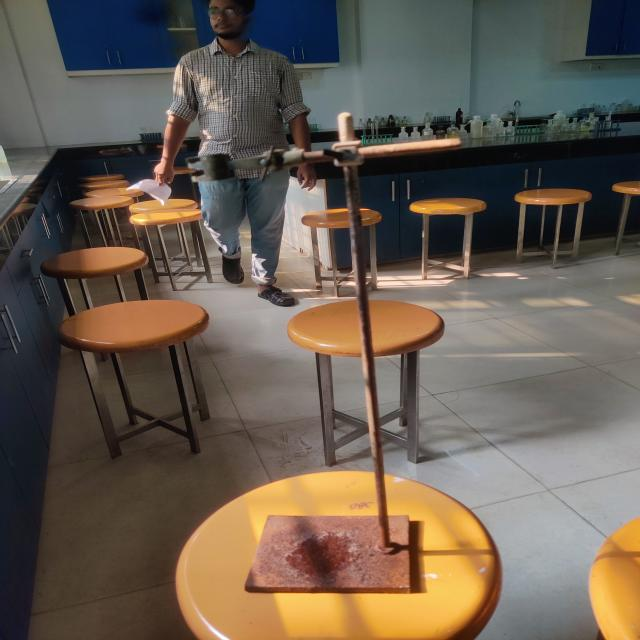Burette_Stands: (155, 111, 502, 618)
